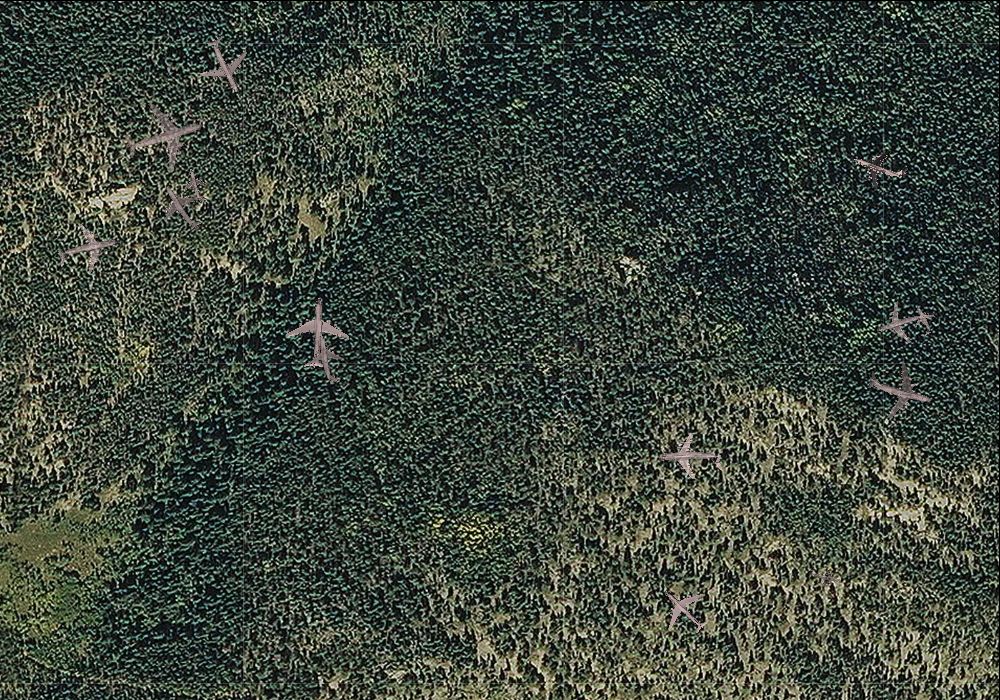plane: (115, 89, 212, 182), (860, 351, 940, 429), (187, 26, 262, 103), (649, 574, 720, 646), (281, 296, 351, 369), (51, 215, 123, 283), (148, 172, 215, 241), (847, 133, 915, 199), (656, 429, 723, 488), (870, 293, 932, 354), (303, 331, 352, 386), (904, 300, 942, 340), (178, 164, 214, 205), (806, 558, 845, 593)
